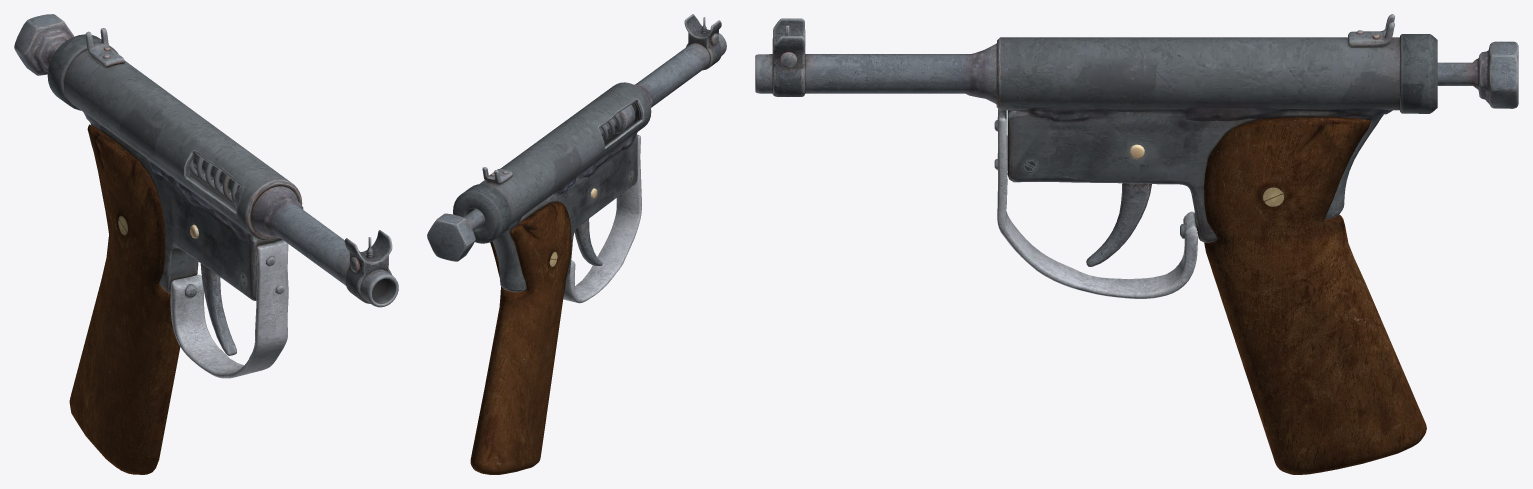
File: gun-eoka.glb
3 renders of one model, left to right at view 1: azimuth 30°, elevation 25°; view 2: azimuth 150°, elevation 25°; view 3: azimuth 270°, elevation 25°, orthographic. The views are drawn at different scales.
Parts seen in each view (by area): view 1: Object_3, Object_2; view 2: Object_3, Object_2; view 3: Object_3, Object_2.
Part boxes in pixels (x1,y1,x2,y2): Object_3: (14,14,398,474); Object_2: (47,34,302,300); Object_3: (427,14,726,474); Object_2: (453,82,651,291); Object_3: (755,14,1518,474); Object_2: (996,34,1437,242).
Bounding box in the file's own units: 0.0198 × 0.1233 × 0.1886.
2 materials, 2 textured.
